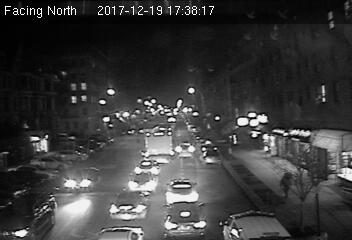car: (163, 202, 209, 238), (110, 188, 148, 221), (63, 168, 103, 192), (164, 178, 197, 203), (128, 171, 155, 191), (174, 141, 195, 160), (201, 150, 224, 165)
police: (217, 208, 301, 240)
truck: (137, 129, 174, 162)
